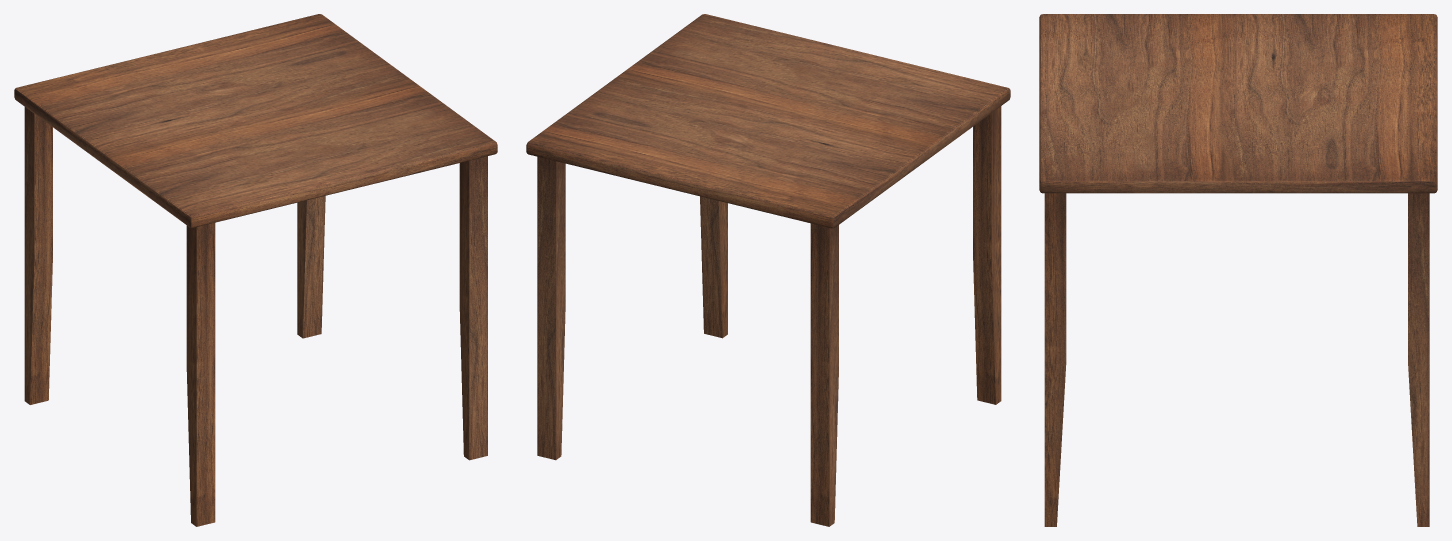
The model's file is Table.fbx.
3 renders of one model, left to right at view 1: azimuth 30°, elevation 25°; view 2: azimuth 150°, elevation 25°; view 3: azimuth 270°, elevation 25°, orthographic. The views are drawn at different scales.
Visible parts, largest first — view 1: polySurface412; view 2: polySurface412; view 3: polySurface412.
Boxes of the visible parts, bbox=[...] form: polySurface412: bbox=[14, 14, 497, 526]; polySurface412: bbox=[526, 14, 1010, 526]; polySurface412: bbox=[1039, 14, 1437, 526].
Size of the model in its own units: 0.81 by 0.7867 by 0.81.
Materials: 1 (1 with a texture image).
